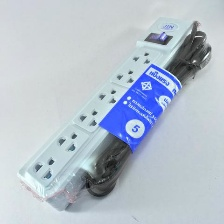three_eye_plug: (15, 13, 200, 212)
